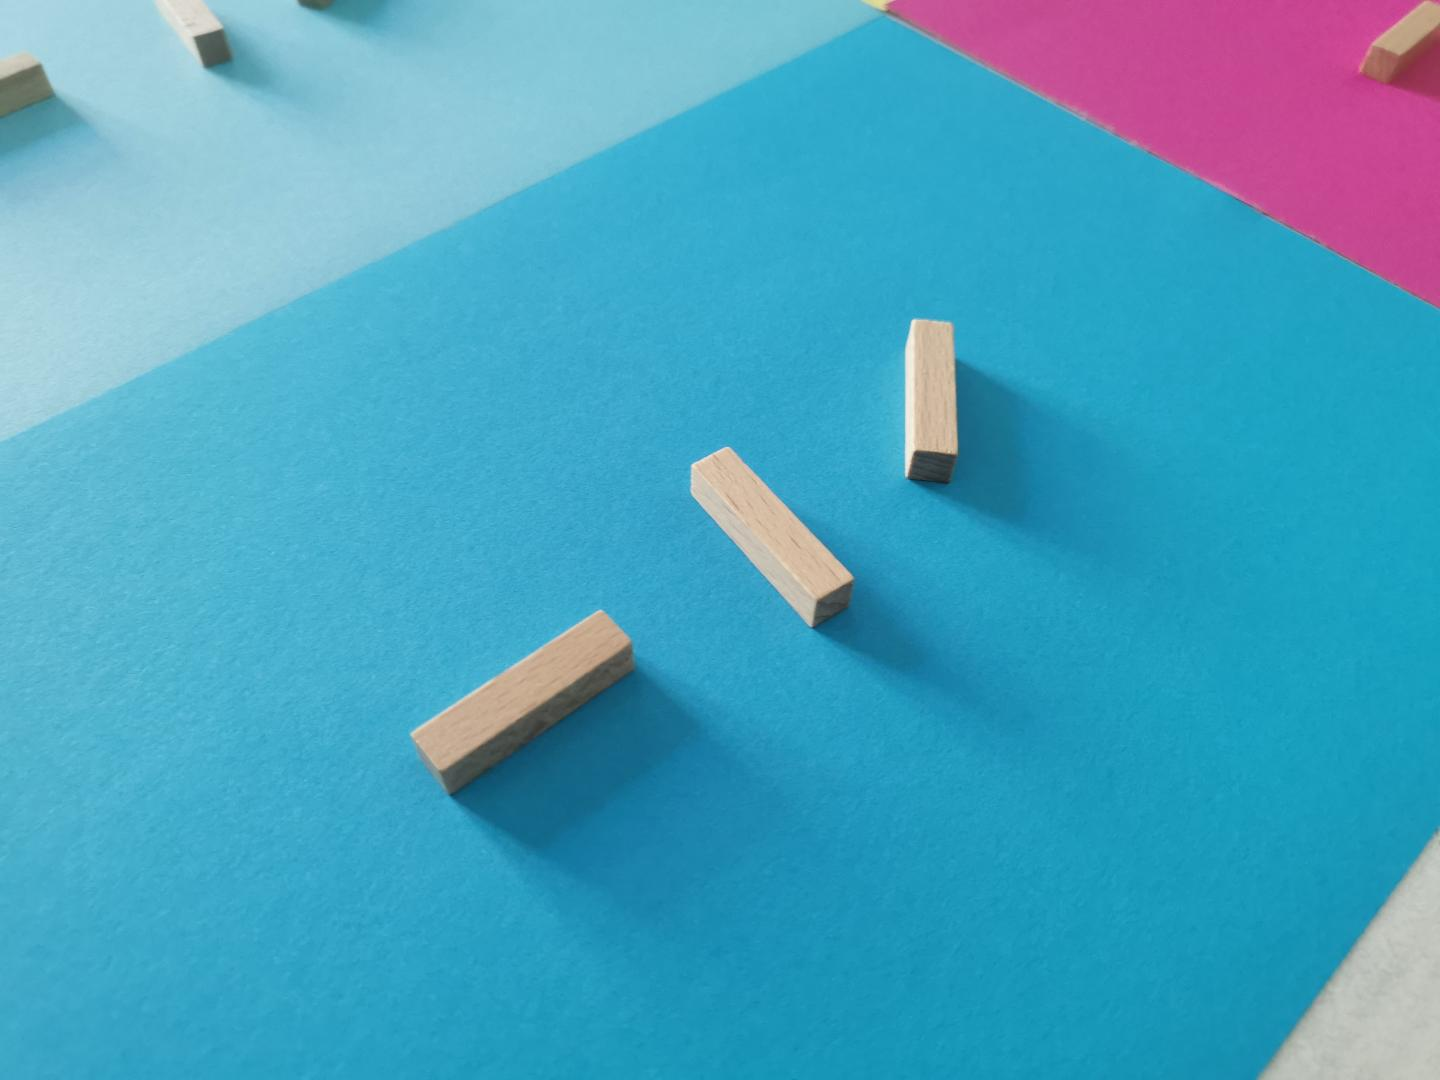jenga: (410, 610, 636, 793), (692, 447, 853, 627), (906, 318, 959, 483), (1358, 0, 1440, 84)
